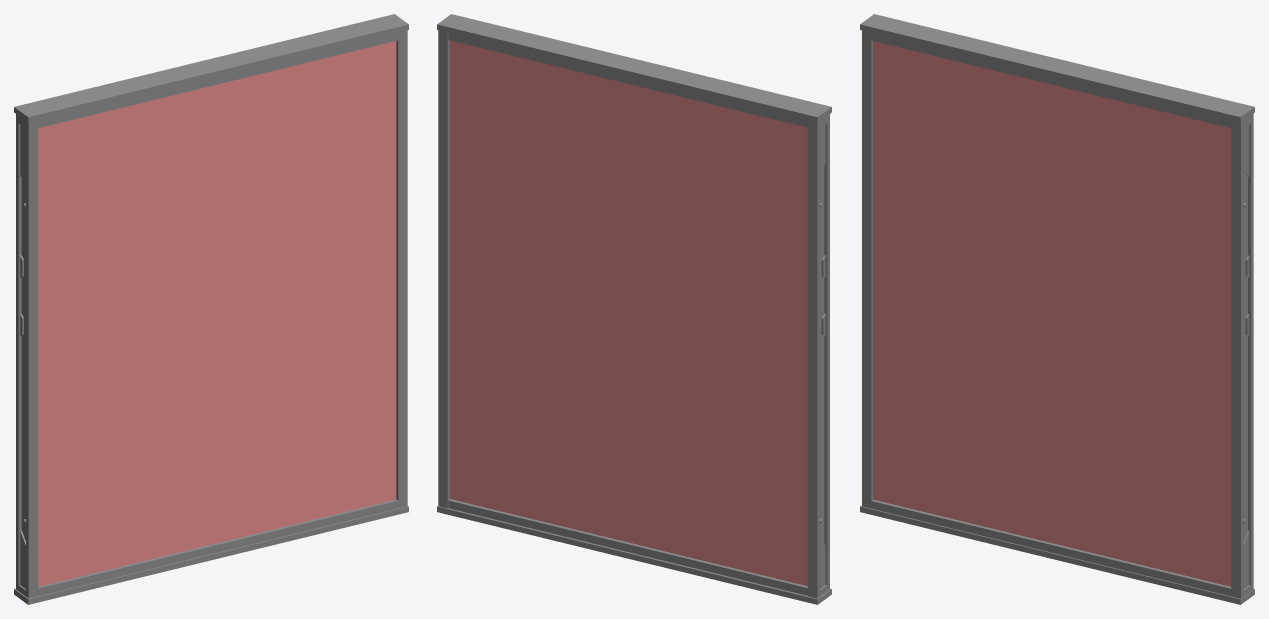
The model's file is S_Envi_Umeda_Prop_Billboard_01a.gltf.
3 renders of one model, left to right at view 1: azimuth 30°, elevation 25°; view 2: azimuth 150°, elevation 25°; view 3: azimuth 330°, elevation 25°, orthographic.
Visible parts, largest first — view 1: S_Envi_Umeda_Prop_Billboard_01a; view 2: S_Envi_Umeda_Prop_Billboard_01a; view 3: S_Envi_Umeda_Prop_Billboard_01a.
Part boxes in pixels (x1=…): S_Envi_Umeda_Prop_Billboard_01a: x1=14, y1=14, x2=408, y2=604; S_Envi_Umeda_Prop_Billboard_01a: x1=437, y1=14, x2=831, y2=604; S_Envi_Umeda_Prop_Billboard_01a: x1=860, y1=14, x2=1254, y2=604.
Bounding box in the file's own units: 7.26 × 8.89 × 0.4713.
